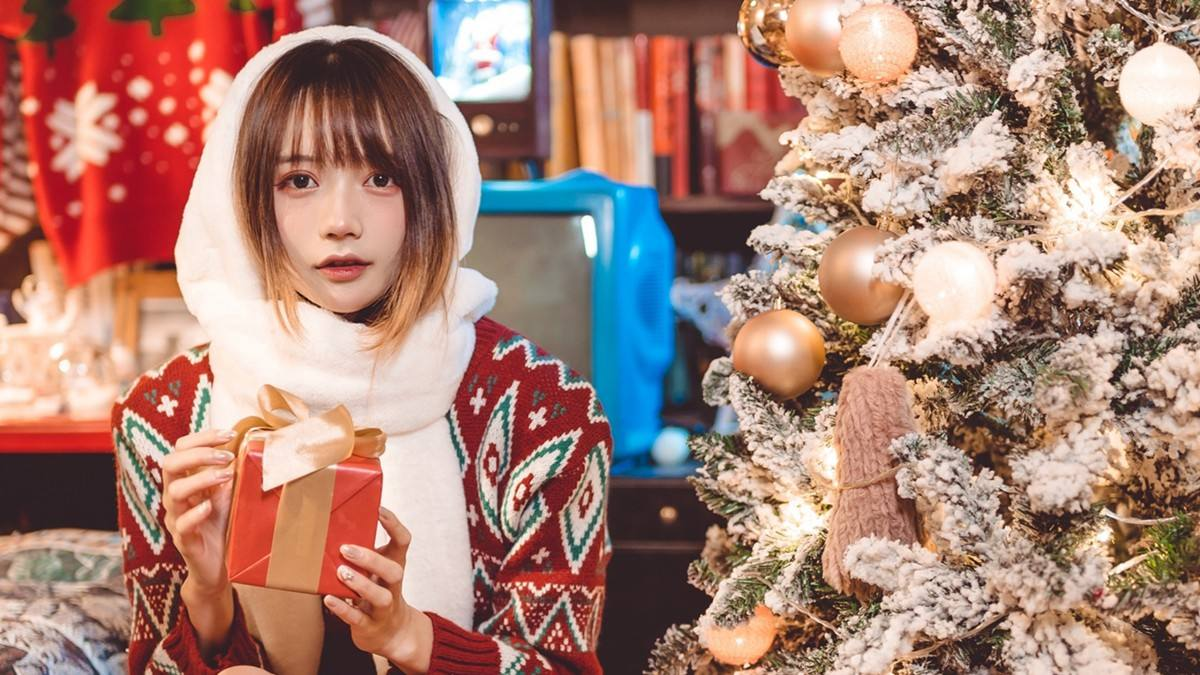person: (167, 46, 532, 518)
